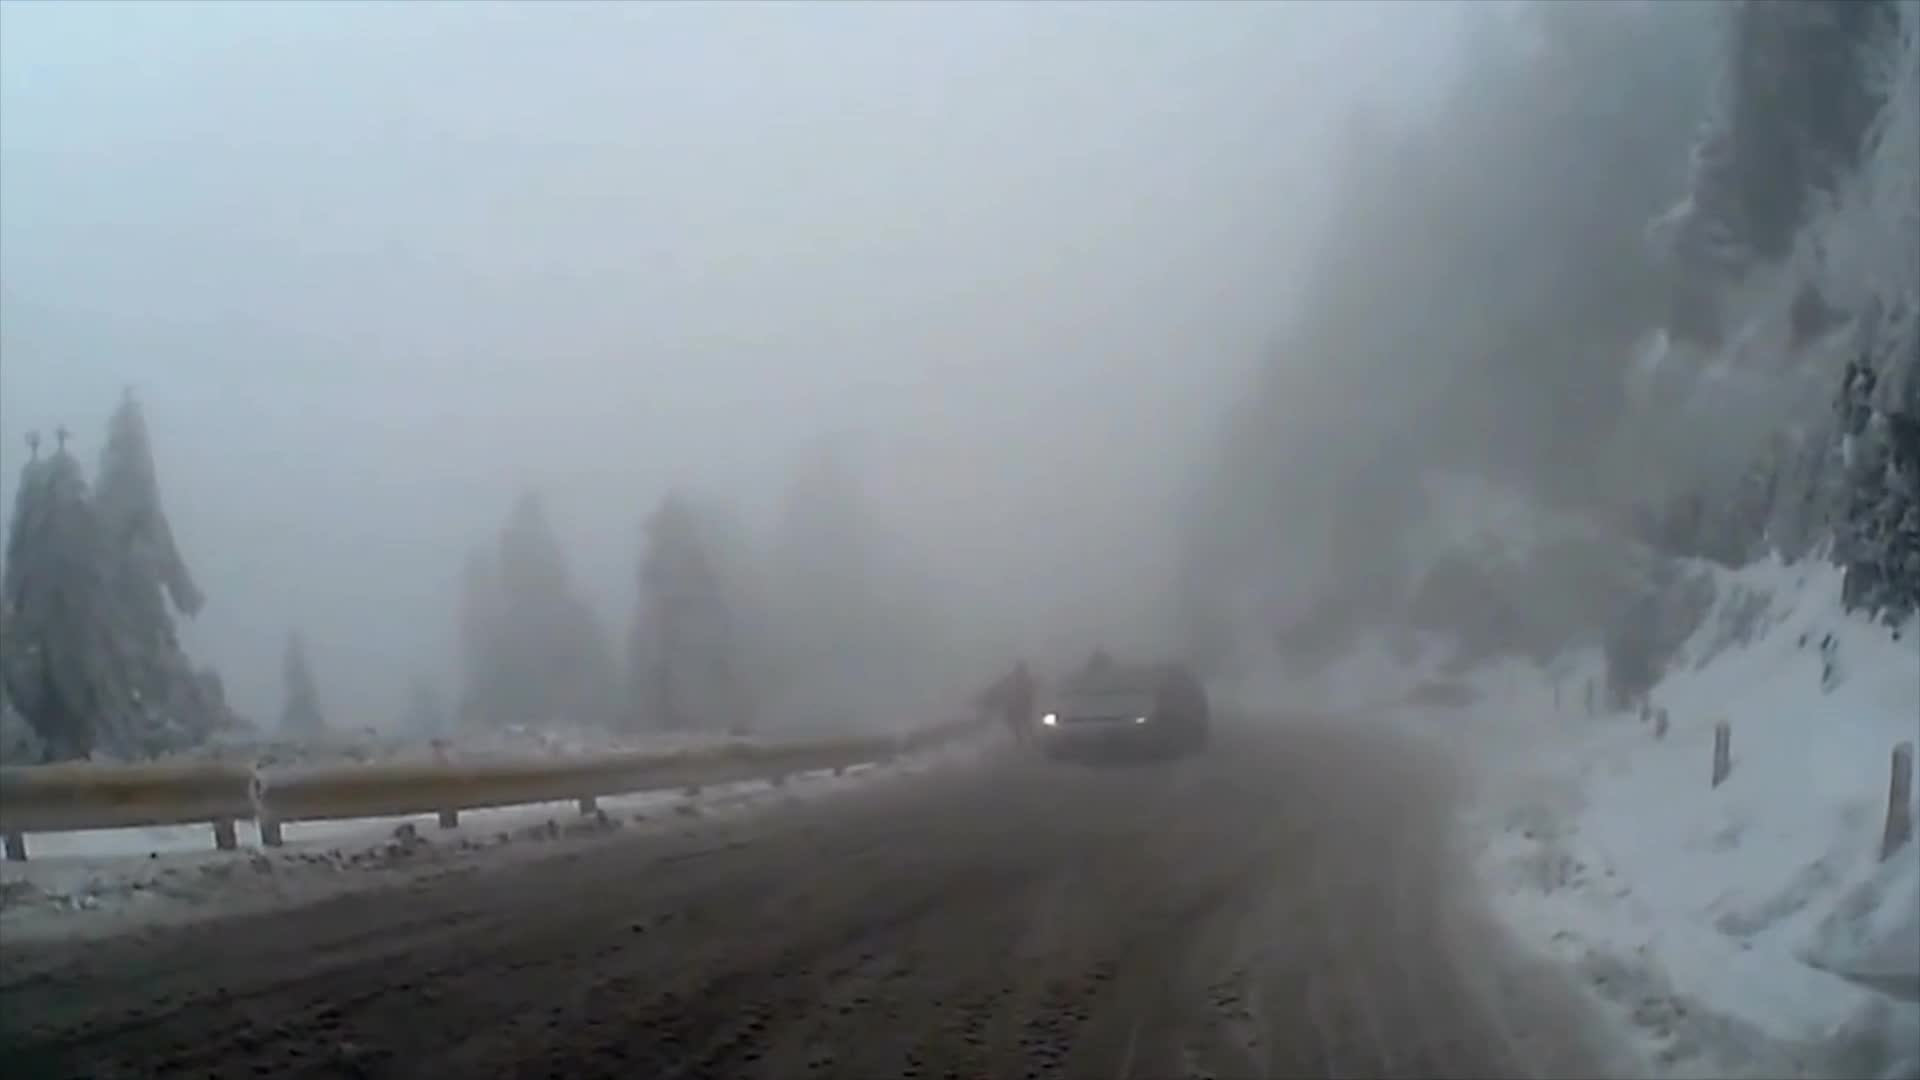vehicle: (1034, 658, 1211, 766)
